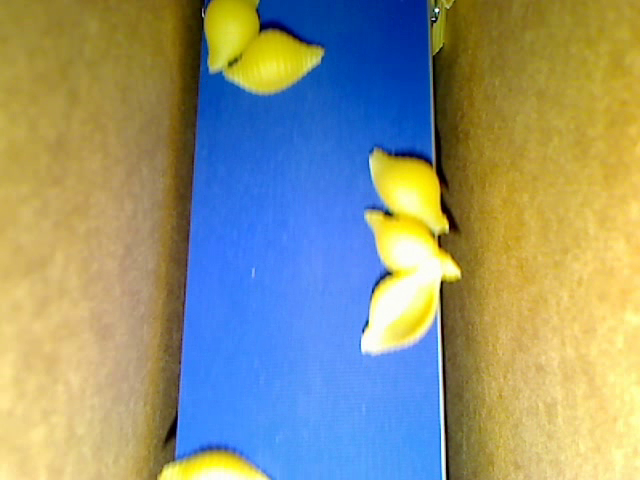penne: (429, 1, 448, 57), (436, 1, 454, 8)
shell: (359, 262, 443, 356), (366, 147, 450, 237), (223, 24, 323, 97), (360, 209, 457, 283), (199, 1, 263, 77), (159, 451, 267, 479)
